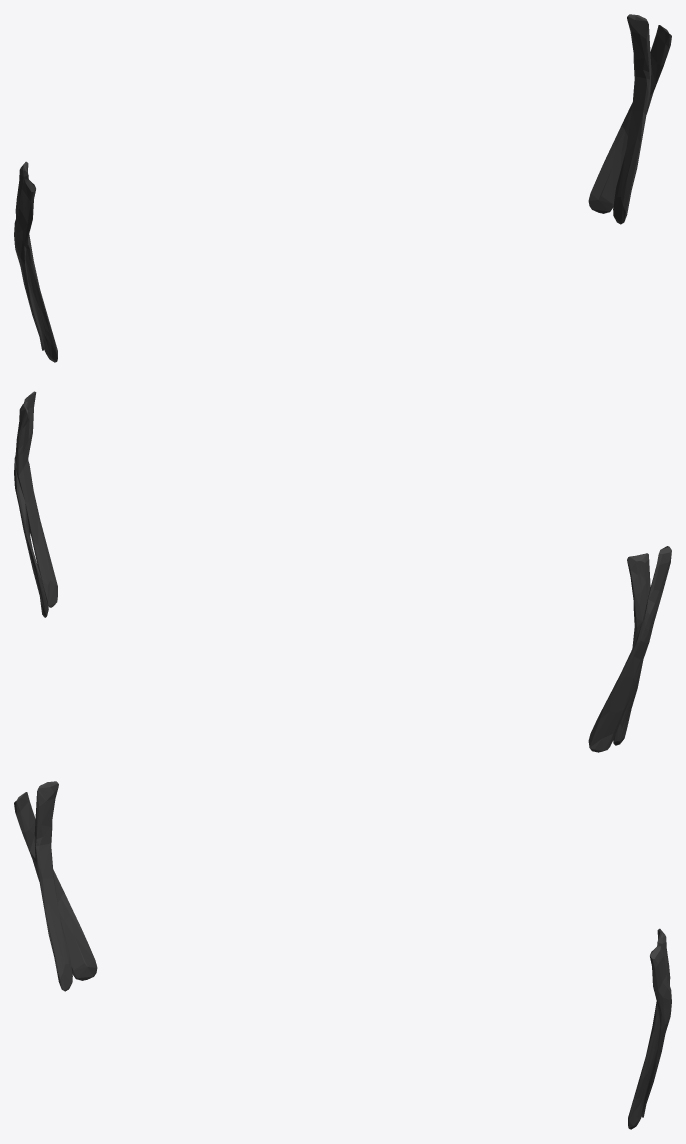
File: lig_lateral_collateral_carpal.glb
3 renders of one model, top to bottom at view 1: azimuth 30°, elevation 25°; view 2: azimuth 150°, elevation 25°; view 3: azimuth 330°, elevation 25°, orthographic.
Visible parts, largest first — view 1: lig_lateral_collateral_carpal; view 2: lig_lateral_collateral_carpal; view 3: lig_lateral_collateral_carpal.
Part boxes in pixels (left/top/right/bottom): lig_lateral_collateral_carpal: left=14, top=14, right=671, bottom=362; lig_lateral_collateral_carpal: left=14, top=391, right=671, bottom=752; lig_lateral_collateral_carpal: left=14, top=781, right=671, bottom=1129.
Size of the model in its own units: 0.00517 by 0.00153 by 0.000489.
Materials: 1 (1 with a texture image).
